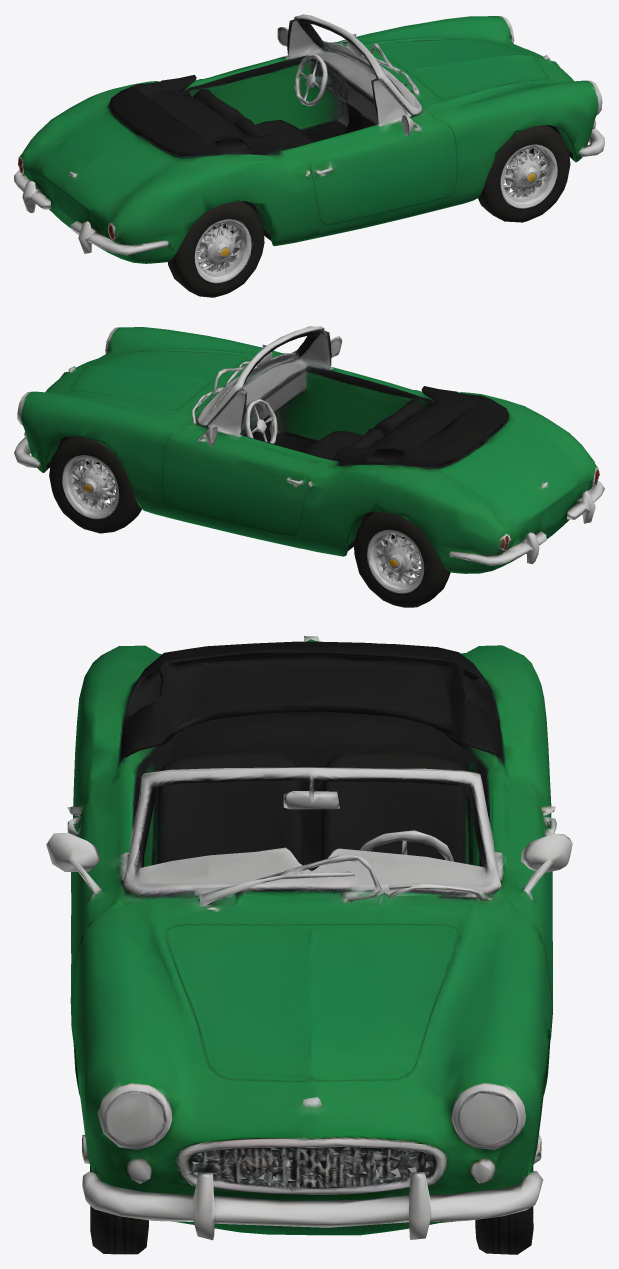
The model's file is car3d_classic.glb.
The picture shows the model from 3 angles, top to bottom: view 1: azimuth 30°, elevation 25°; view 2: azimuth 150°, elevation 25°; view 3: azimuth 270°, elevation 25°; orthographic projection. The views are drawn at different scales.
Parts seen in each view (by area): view 1: tripo_node_b9ee2f79-b584-4679-9e03-00ba207e7c34; view 2: tripo_node_b9ee2f79-b584-4679-9e03-00ba207e7c34; view 3: tripo_node_b9ee2f79-b584-4679-9e03-00ba207e7c34.
Boxes of the visible parts, <box> form: tripo_node_b9ee2f79-b584-4679-9e03-00ba207e7c34: <box>14,14,604,297</box>; tripo_node_b9ee2f79-b584-4679-9e03-00ba207e7c34: <box>14,326,604,607</box>; tripo_node_b9ee2f79-b584-4679-9e03-00ba207e7c34: <box>46,636,572,1254</box>.
Size of the model in its own units: 1 by 0.3312 by 0.4416.
Materials: 1 (1 with a texture image).
